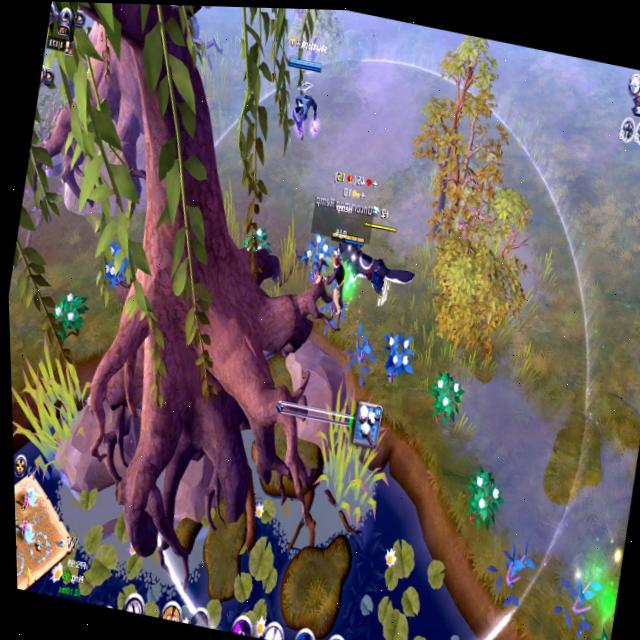hide: (452, 458, 511, 546), (372, 319, 425, 393), (291, 220, 341, 297), (41, 279, 94, 349), (419, 364, 469, 438), (94, 228, 144, 298), (234, 206, 280, 281), (574, 626, 612, 640)
red: (266, 30, 337, 150), (312, 216, 373, 328)
